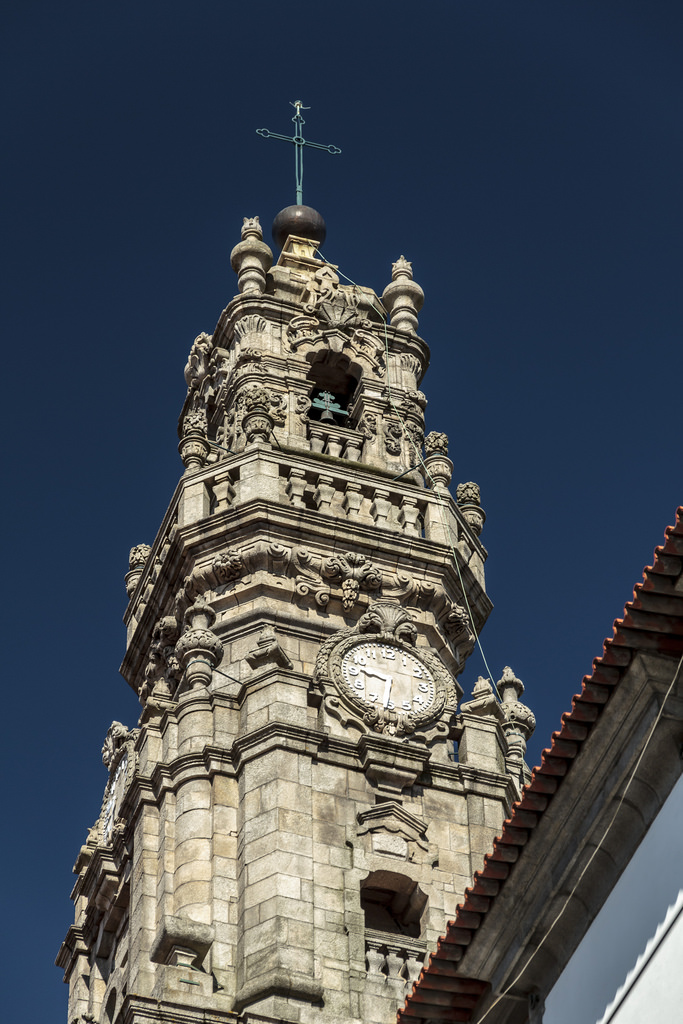clerigos: (57, 98, 537, 1023)
